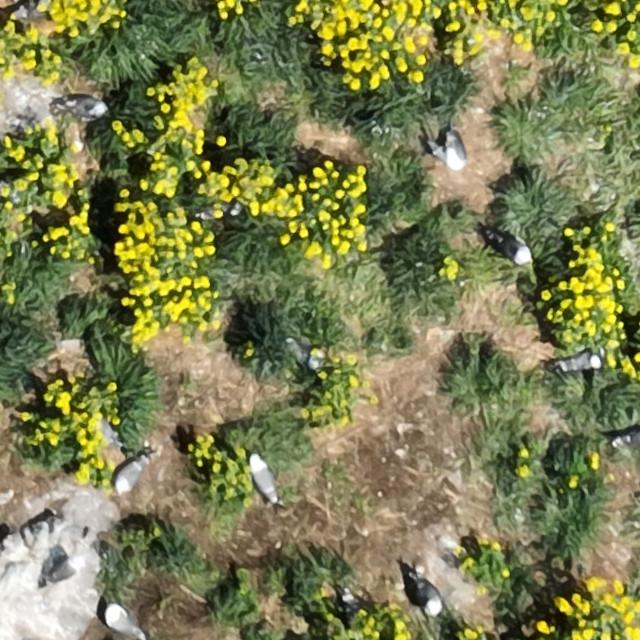umineko: (252, 458, 278, 501), (106, 606, 138, 637), (416, 577, 442, 615), (496, 236, 532, 263), (116, 458, 144, 492), (62, 95, 106, 116), (559, 352, 600, 372), (48, 559, 79, 583), (444, 132, 464, 168), (617, 429, 640, 447)
